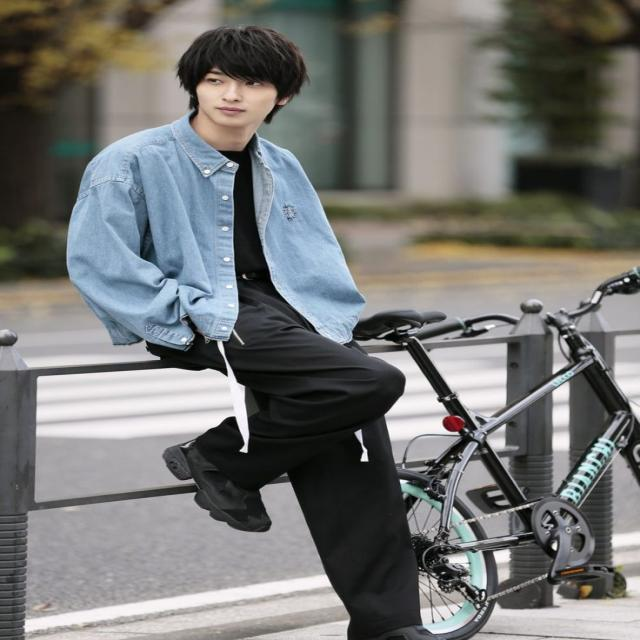sit: (126, 26, 424, 640)
